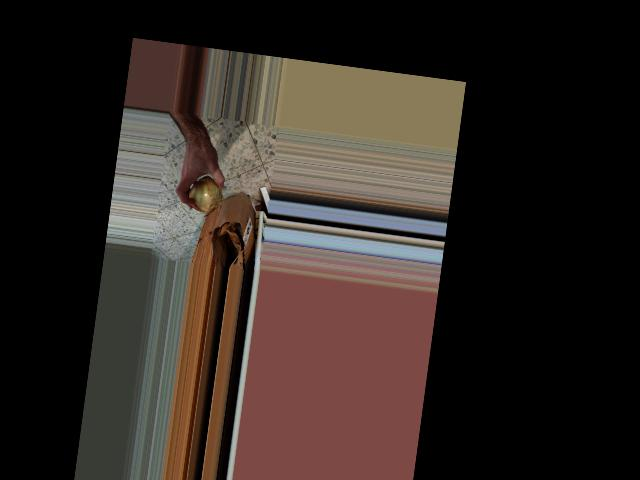onion: (184, 172, 225, 221)
